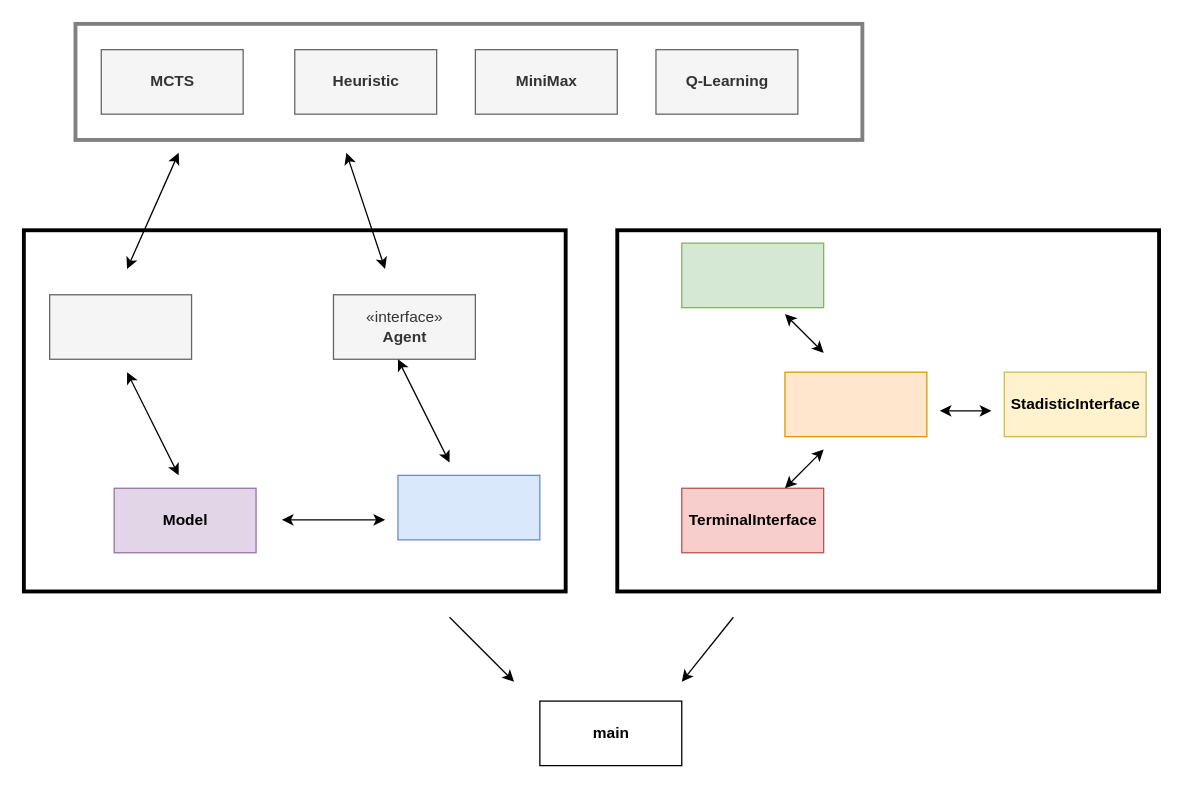
This 1183x788 diagram has some shape labels left out. Here are the shapes that lost their labels. From the top down, the centre of each, then its label:
At [752,275]: "GraphicInterface".
At [120,326]: "«interface» Node".
At [855,404]: "Player".
At [468,507]: "Control(mvc)".
